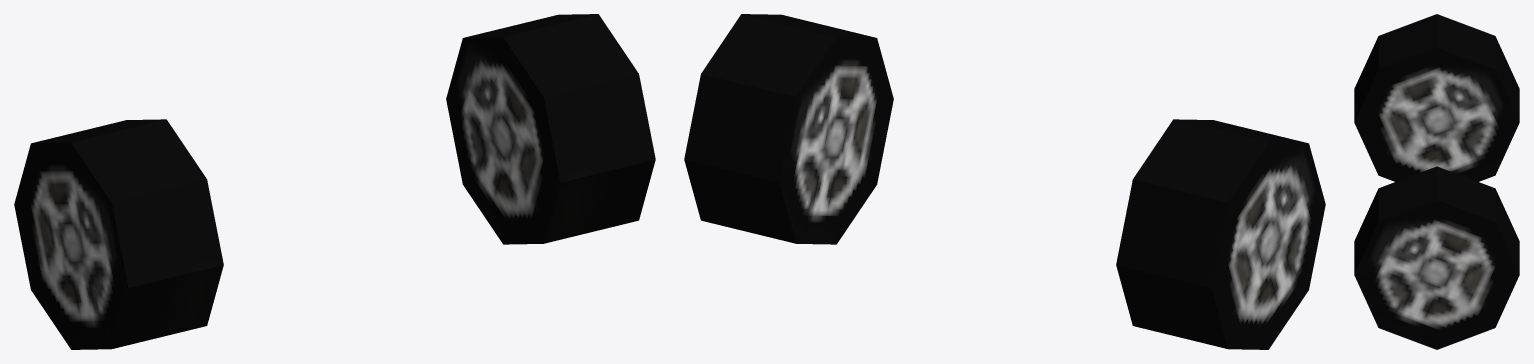
File: supra_a80_wheels_r.obj
The picture shows the model from 3 angles, left to right: view 1: azimuth 30°, elevation 25°; view 2: azimuth 150°, elevation 25°; view 3: azimuth 270°, elevation 25°; orthographic projection. The views are drawn at different scales.
Visible parts, largest first — view 1: supra_a80_wheels_r; view 2: supra_a80_wheels_r; view 3: supra_a80_wheels_r.
Part boxes in pixels (bbox=[...]): supra_a80_wheels_r: bbox=[14, 14, 655, 349]; supra_a80_wheels_r: bbox=[684, 14, 1325, 349]; supra_a80_wheels_r: bbox=[1354, 14, 1519, 349].
Bounding box in the file's own units: 1.86 × 0.7 × 0.7.
Materials: 1 (1 with a texture image).
